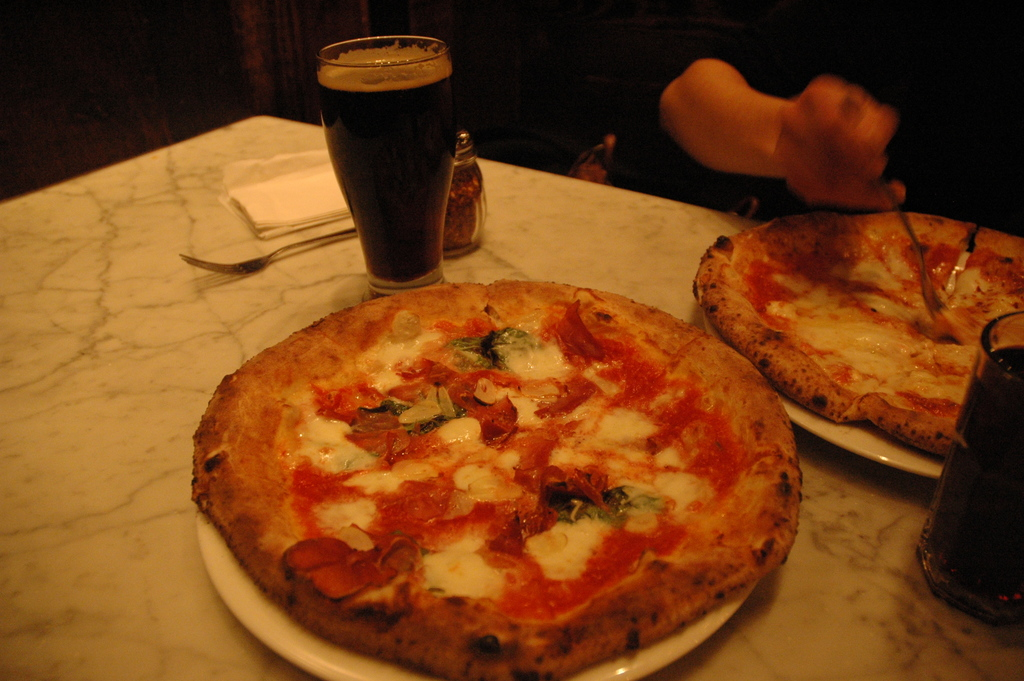Pizza: (195, 278, 803, 680), (691, 210, 1023, 454)
